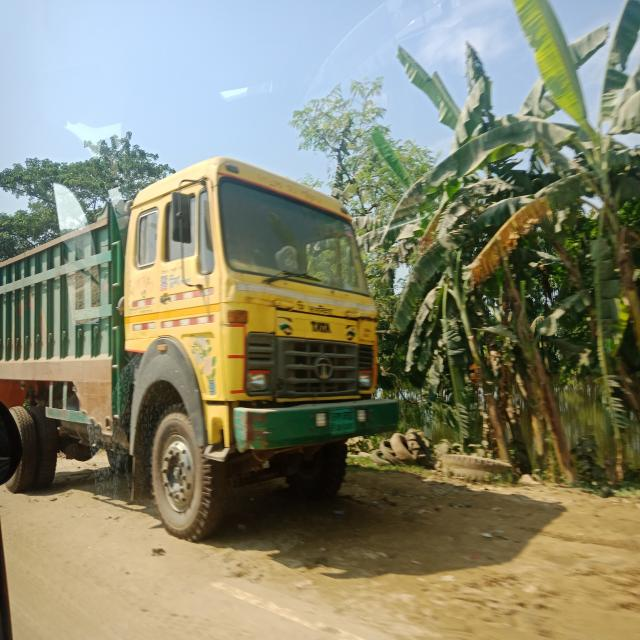truck: (0, 153, 406, 565)
